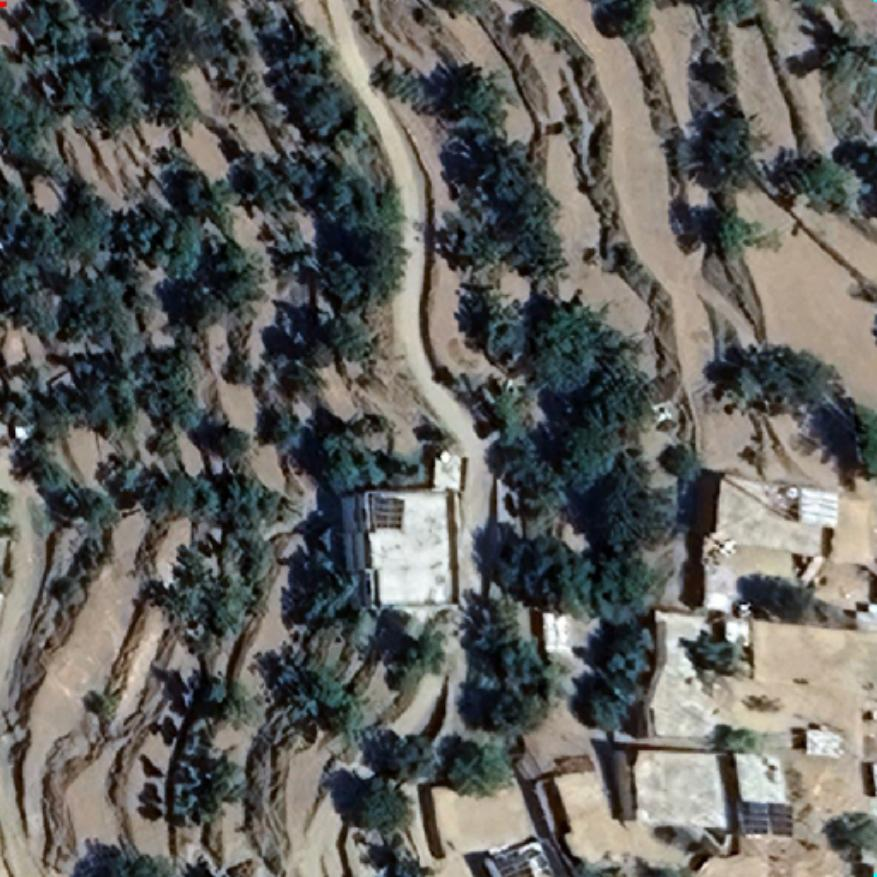Solarpanel: (740, 798, 796, 838), (370, 491, 406, 530)
